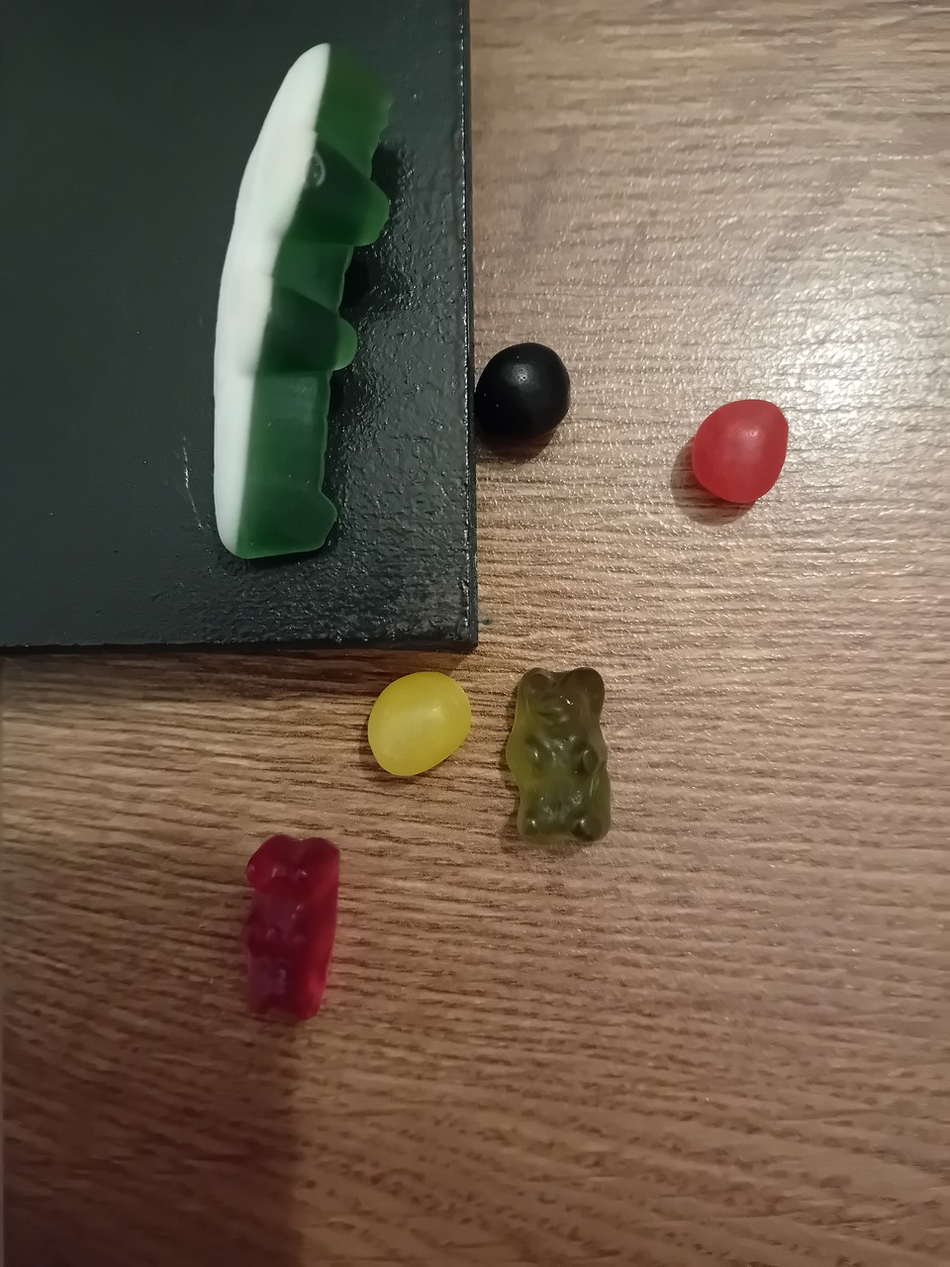crocodile_vert: (203, 34, 401, 565)
dragibus_jaune: (362, 666, 475, 781)
dragibus_noir: (473, 338, 572, 445)
dragibus_rouge: (682, 396, 797, 508)
ourson_rouge: (236, 830, 347, 1020)
ourson_vert: (500, 664, 619, 848)
